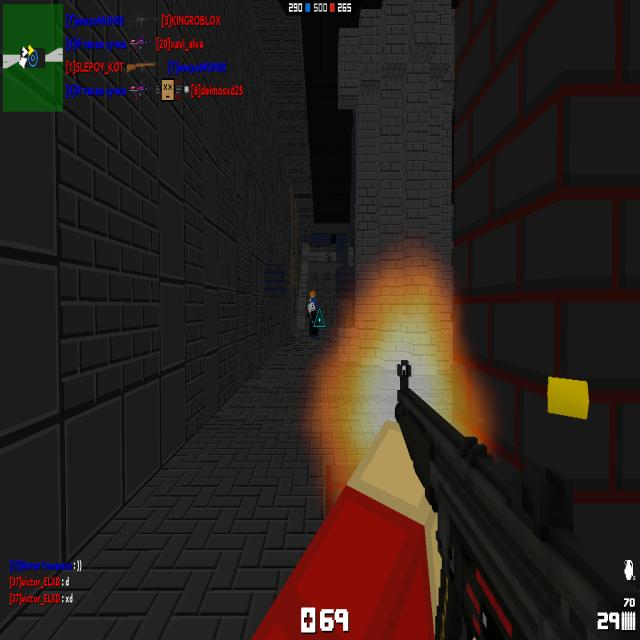enemy: (308, 300, 318, 339), (309, 289, 317, 313), (326, 252, 332, 264)
